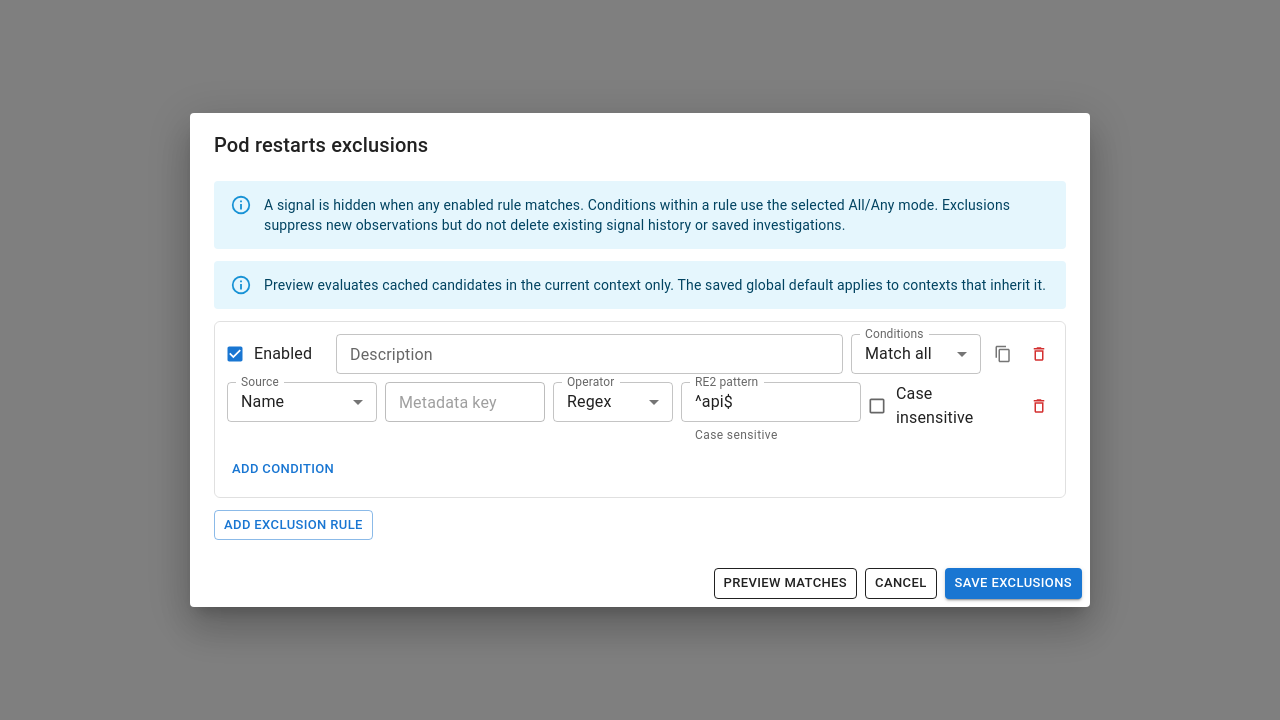
Test: SignalExclusionsDialog › validates with the backend before saving when preview is available
Click the button "Save exclusions" at (1013, 584), box [944,568,1082,599]
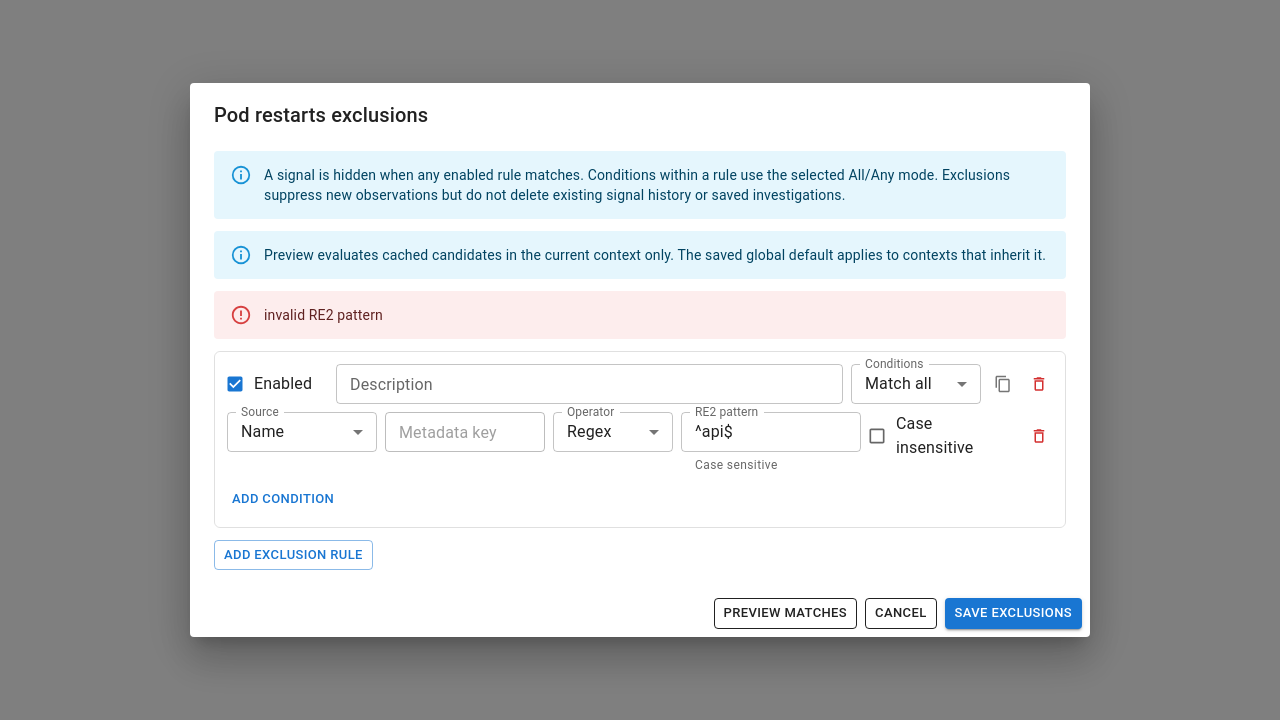
Now the text "invalid RE2 pattern" is shown, box [264,307,383,323]
